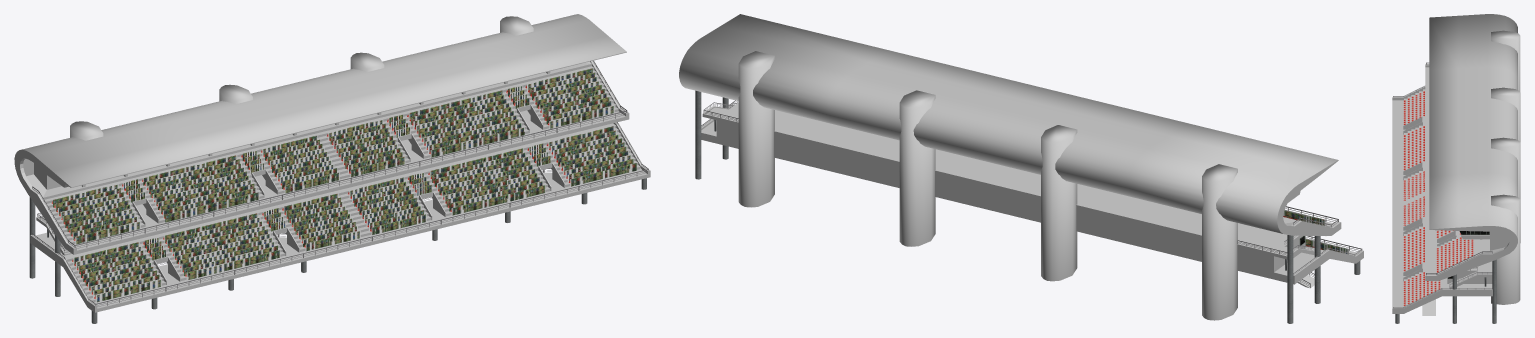
Rendered from GrandStand-02-L.fbx.
3 views of the same model, side by side, from view 1: azimuth 30°, elevation 25°; view 2: azimuth 150°, elevation 25°; view 3: azimuth 270°, elevation 25° (orthographic). The views are drawn at different scales.
Parts seen in each view (by area): view 1: GrandStand-02-L, Audience; view 2: GrandStand-02-L, Audience; view 3: GrandStand-02-L.
Boxes of the visible parts, left/top/right/bottom form: GrandStand-02-L: left=14, top=14, right=650, bottom=323; Audience: left=53, top=68, right=636, bottom=302; GrandStand-02-L: left=679, top=14, right=1363, bottom=323; Audience: left=1283, top=210, right=1348, bottom=254; GrandStand-02-L: left=1392, top=14, right=1520, bottom=323.
Bounding box in the file's own units: 13156 × 2917 × 3363.
